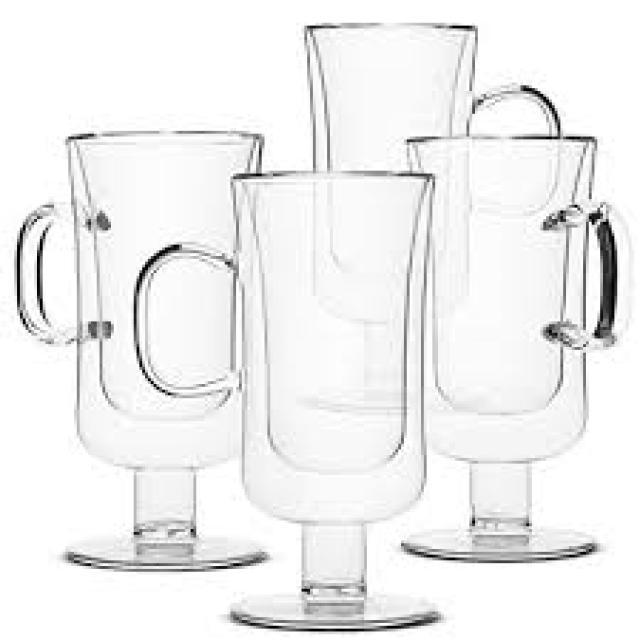Glass: (132, 167, 440, 634), (11, 125, 270, 570), (304, 21, 556, 414), (399, 131, 620, 570)
